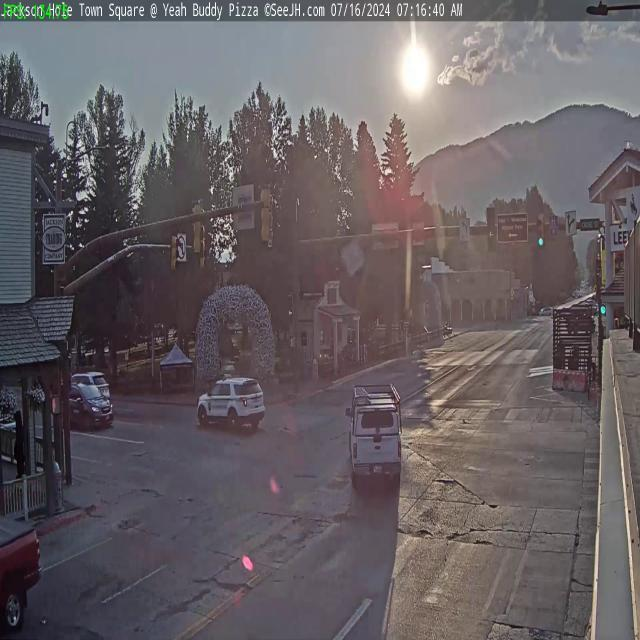pickup: (0, 502, 43, 632)
suv: (197, 374, 265, 434), (54, 381, 114, 432)
traffic light: (260, 184, 274, 244), (190, 199, 203, 256), (486, 206, 496, 251), (170, 230, 180, 272), (536, 215, 545, 248)
truck: (347, 380, 404, 483)
